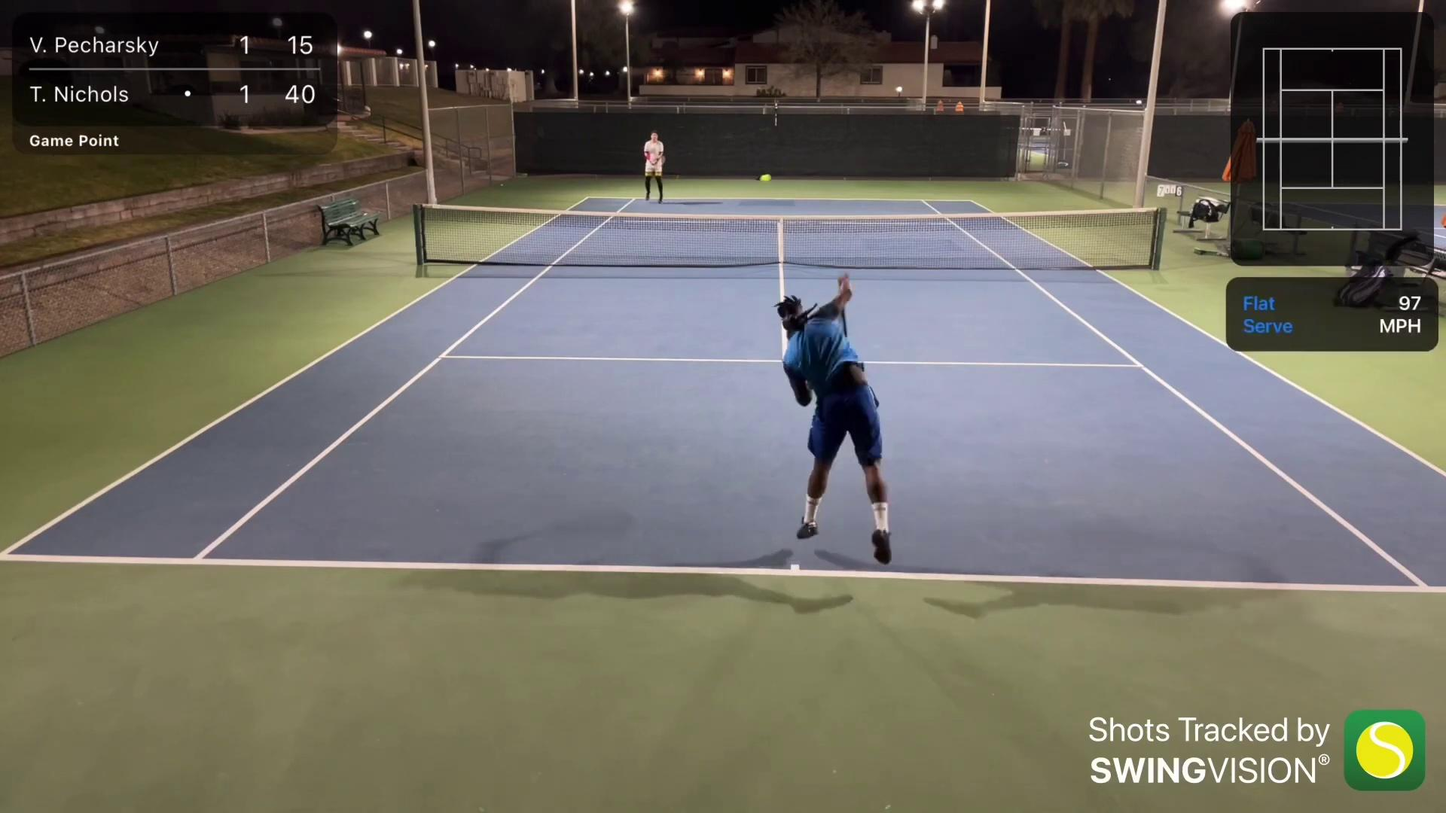ball: (758, 171, 777, 185)
